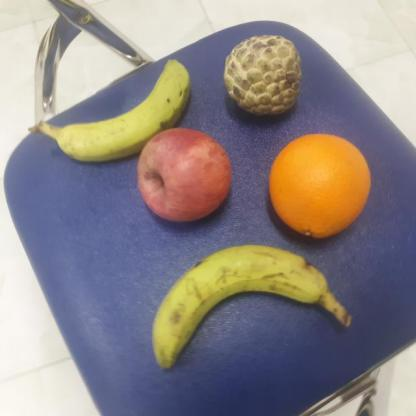annona: (222, 32, 304, 116)
apple: (134, 124, 234, 226)
banana: (151, 239, 329, 368), (60, 52, 192, 162)
orange: (265, 131, 376, 238)
